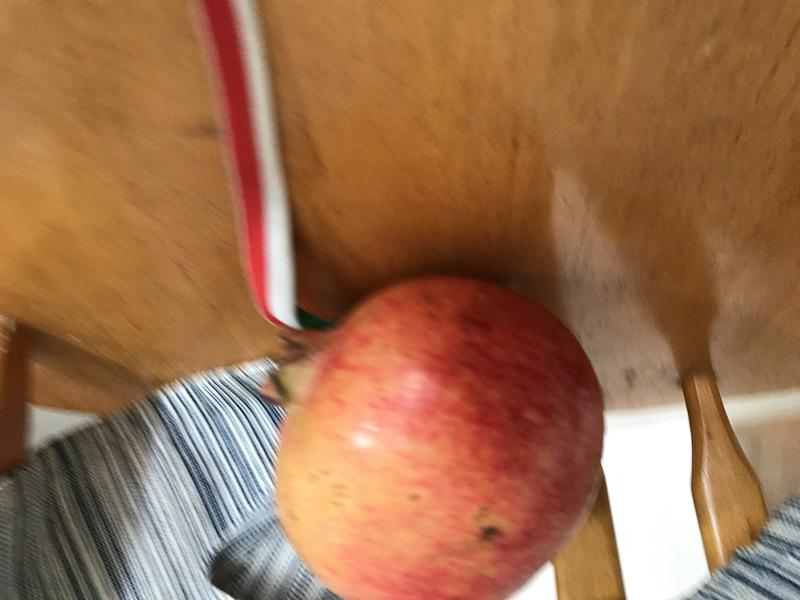pomegranate: (247, 259, 628, 600)
